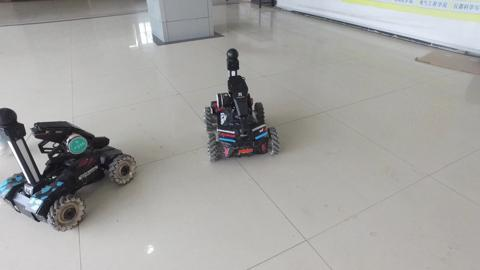chariot: (1, 107, 137, 229), (197, 46, 282, 169)
